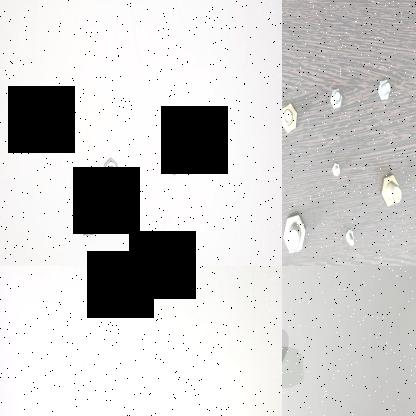Bolts: (282, 206, 310, 256), (377, 160, 403, 212), (282, 97, 301, 138), (326, 78, 346, 116), (373, 74, 396, 102), (340, 223, 356, 252), (331, 160, 343, 178)
NUTS: (73, 192, 101, 240), (160, 133, 186, 176), (102, 157, 121, 187)
